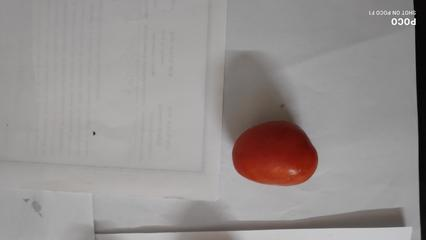tomato: (230, 116, 324, 194)
